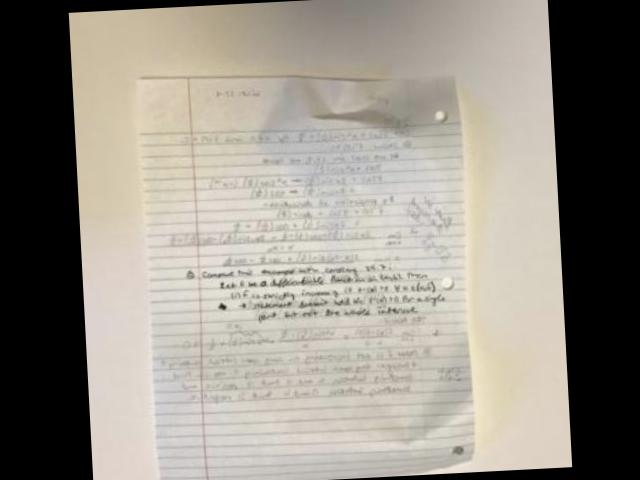cardboard paper: (136, 80, 471, 480)
